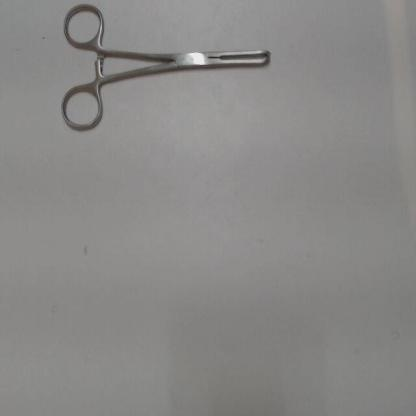Allis Tissue Forceps: (55, 3, 286, 145)
